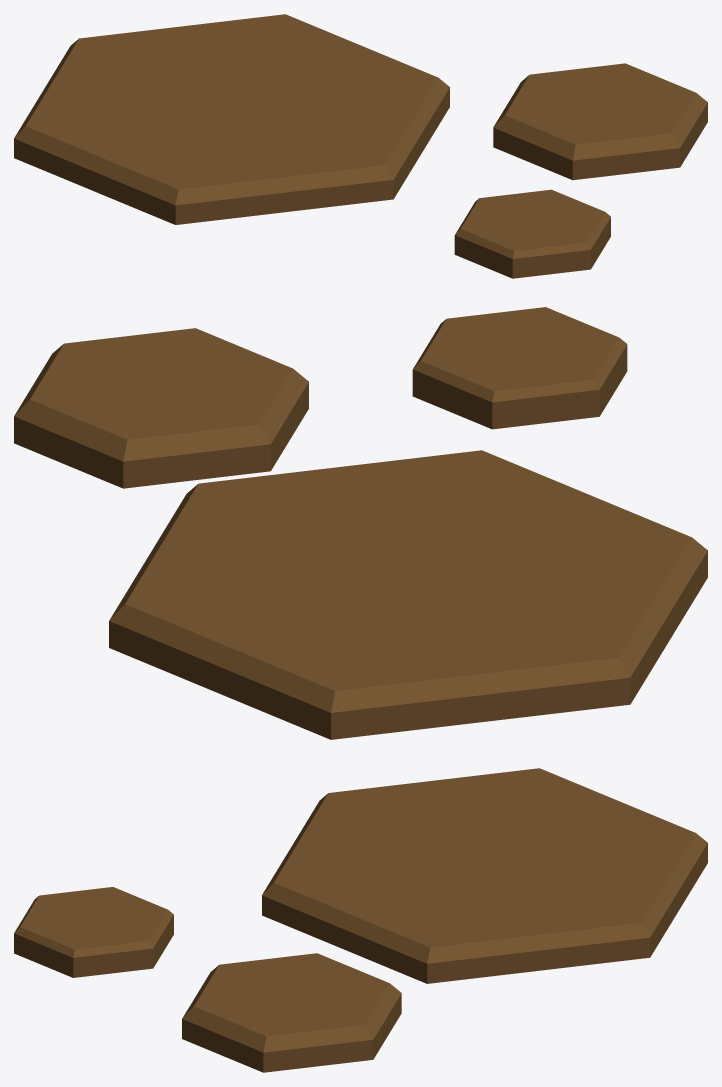
File: Ground_rock.fbx
3 views of the same model, one above another, from view 1: azimuth 30°, elevation 25°; view 2: azimuth 150°, elevation 25°; view 3: azimuth 270°, elevation 25° (orthographic). The views are drawn at different scales.
Parts seen in each view (by area): view 1: Vert.001, Vert.004, Vert.003; view 2: Vert.001, Vert.004, Vert.003; view 3: Vert.001, Vert.004, Vert.003.
Boxes of the visible parts, box(x1,y1,x2,y2) form: Vert.001: box(14, 14, 449, 224); Vert.004: box(493, 63, 707, 180); Vert.003: box(454, 189, 610, 278); Vert.001: box(109, 450, 707, 739); Vert.004: box(14, 328, 308, 488); Vert.003: box(412, 307, 627, 429); Vert.001: box(262, 768, 707, 983); Vert.004: box(182, 953, 401, 1072); Vert.003: box(14, 887, 173, 977).
Size of the model in its own units: 175 by 185 by 9.19.
